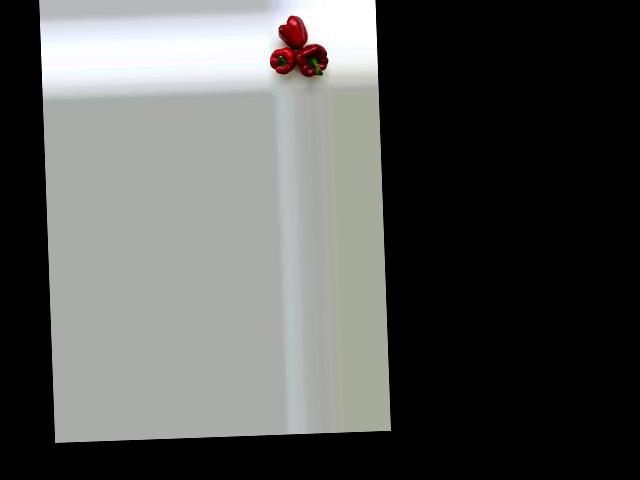bell_pepper: (272, 10, 310, 51)
